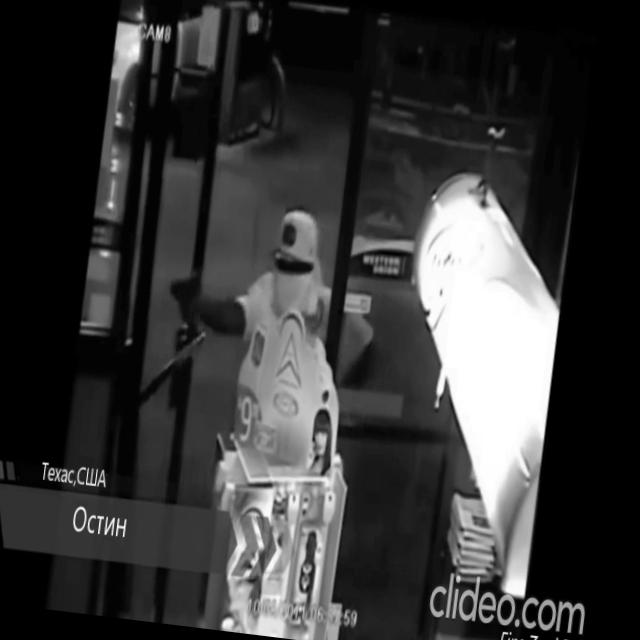gun: (165, 266, 206, 330)
person with a gun: (147, 188, 400, 502)
